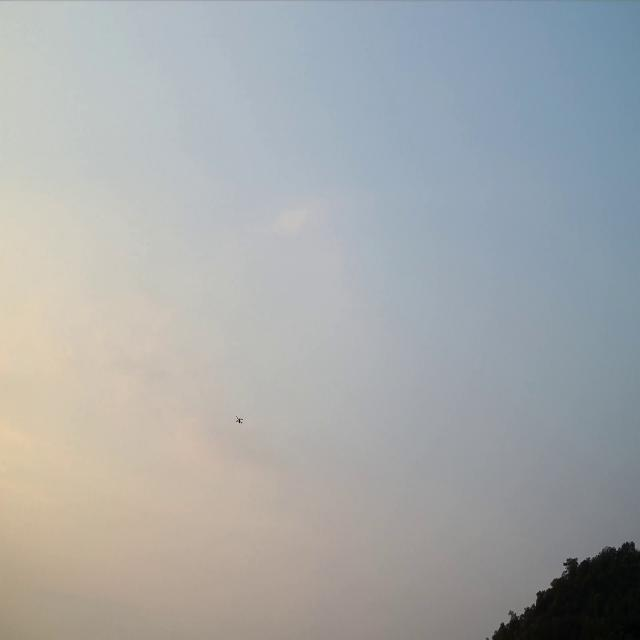UAV: (235, 414, 244, 425)
